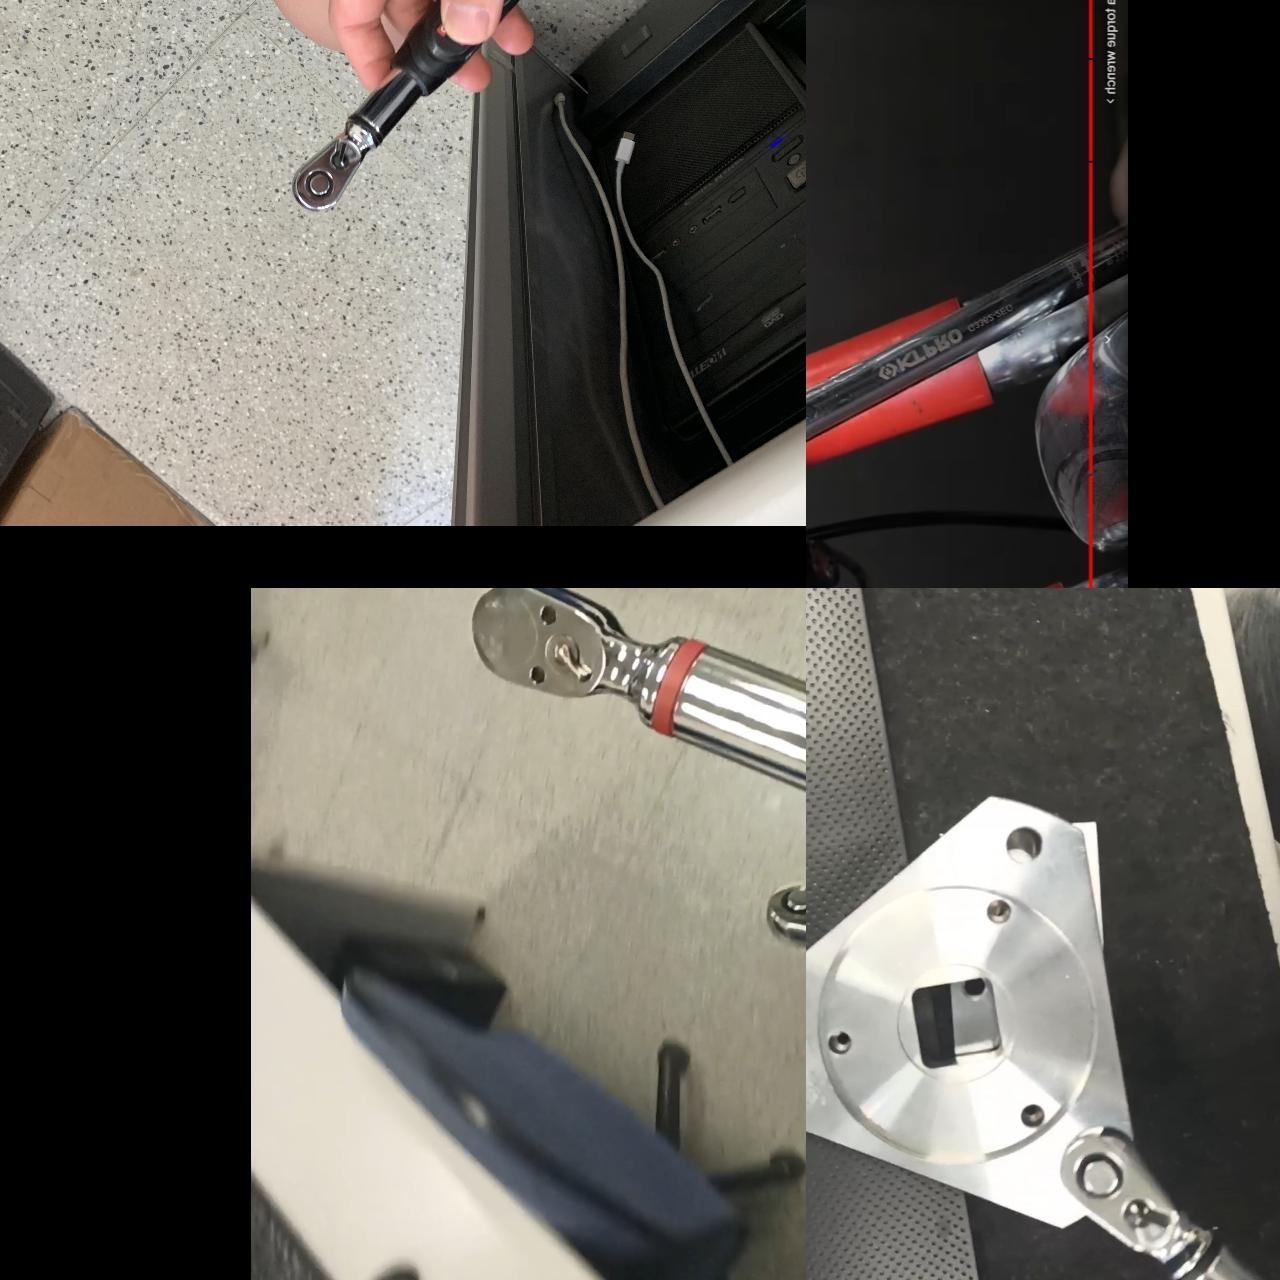Tool: (469, 588, 661, 719), (1062, 1122, 1210, 1264), (287, 124, 383, 212), (765, 878, 806, 952)
